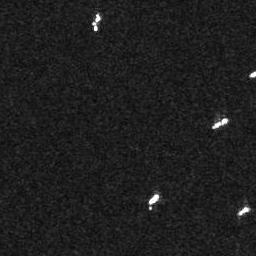ship: (89, 12, 102, 31), (212, 116, 228, 129), (148, 192, 160, 206), (238, 206, 250, 217)
